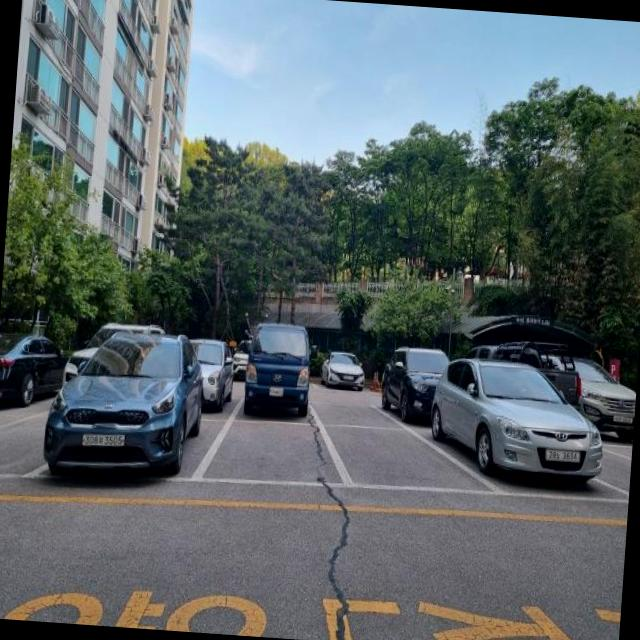car: (43, 325, 212, 492), (426, 356, 610, 494), (237, 318, 321, 421), (378, 344, 452, 430), (318, 350, 367, 391)
free: (312, 412, 478, 500), (208, 411, 342, 496), (313, 402, 404, 434)
